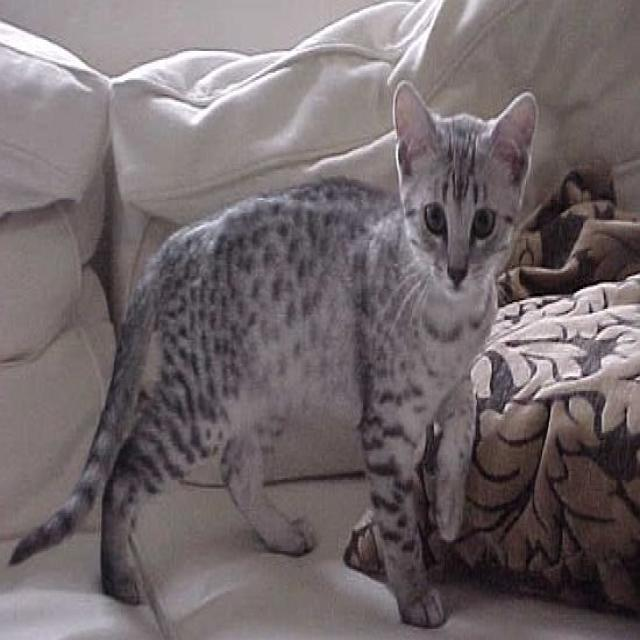Egyptian_Mau: (390, 77, 541, 304)
